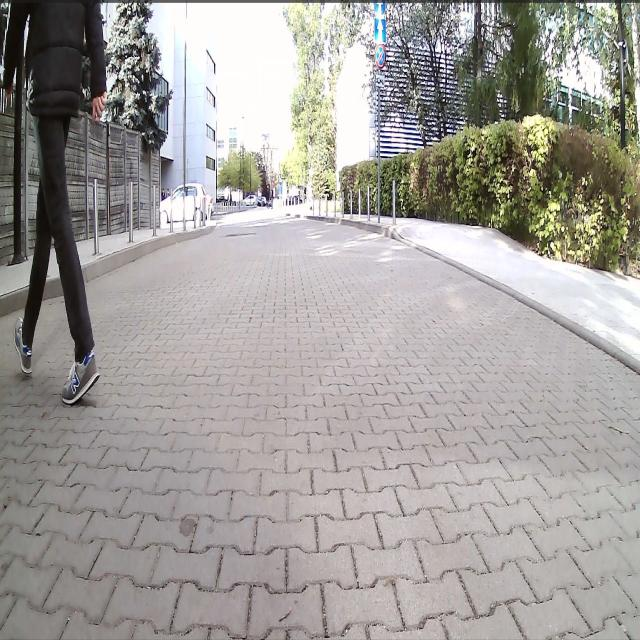person: (0, 0, 116, 421)
